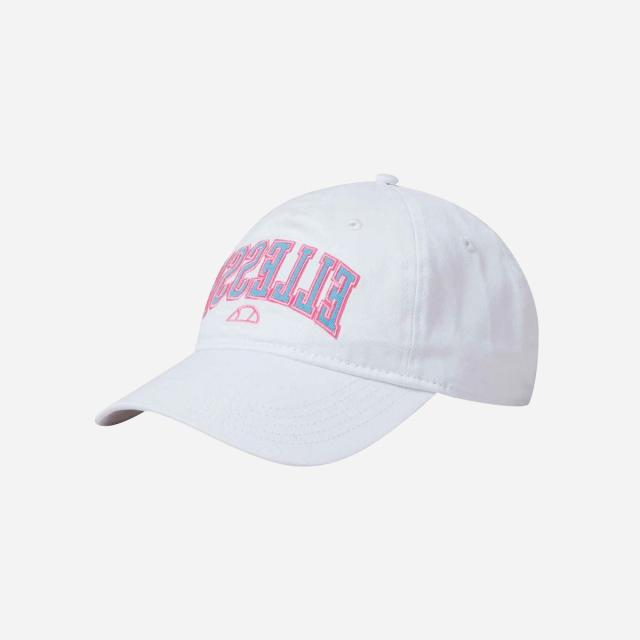Nonhelmet: (92, 171, 542, 469)
